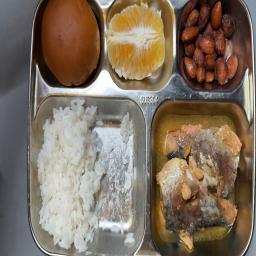100_bread: (37, 0, 103, 90)
100_fish: (150, 105, 251, 255)
100_nuts: (181, 5, 242, 90)
100_orange: (106, 4, 168, 83)
50_rice: (31, 94, 144, 250)
